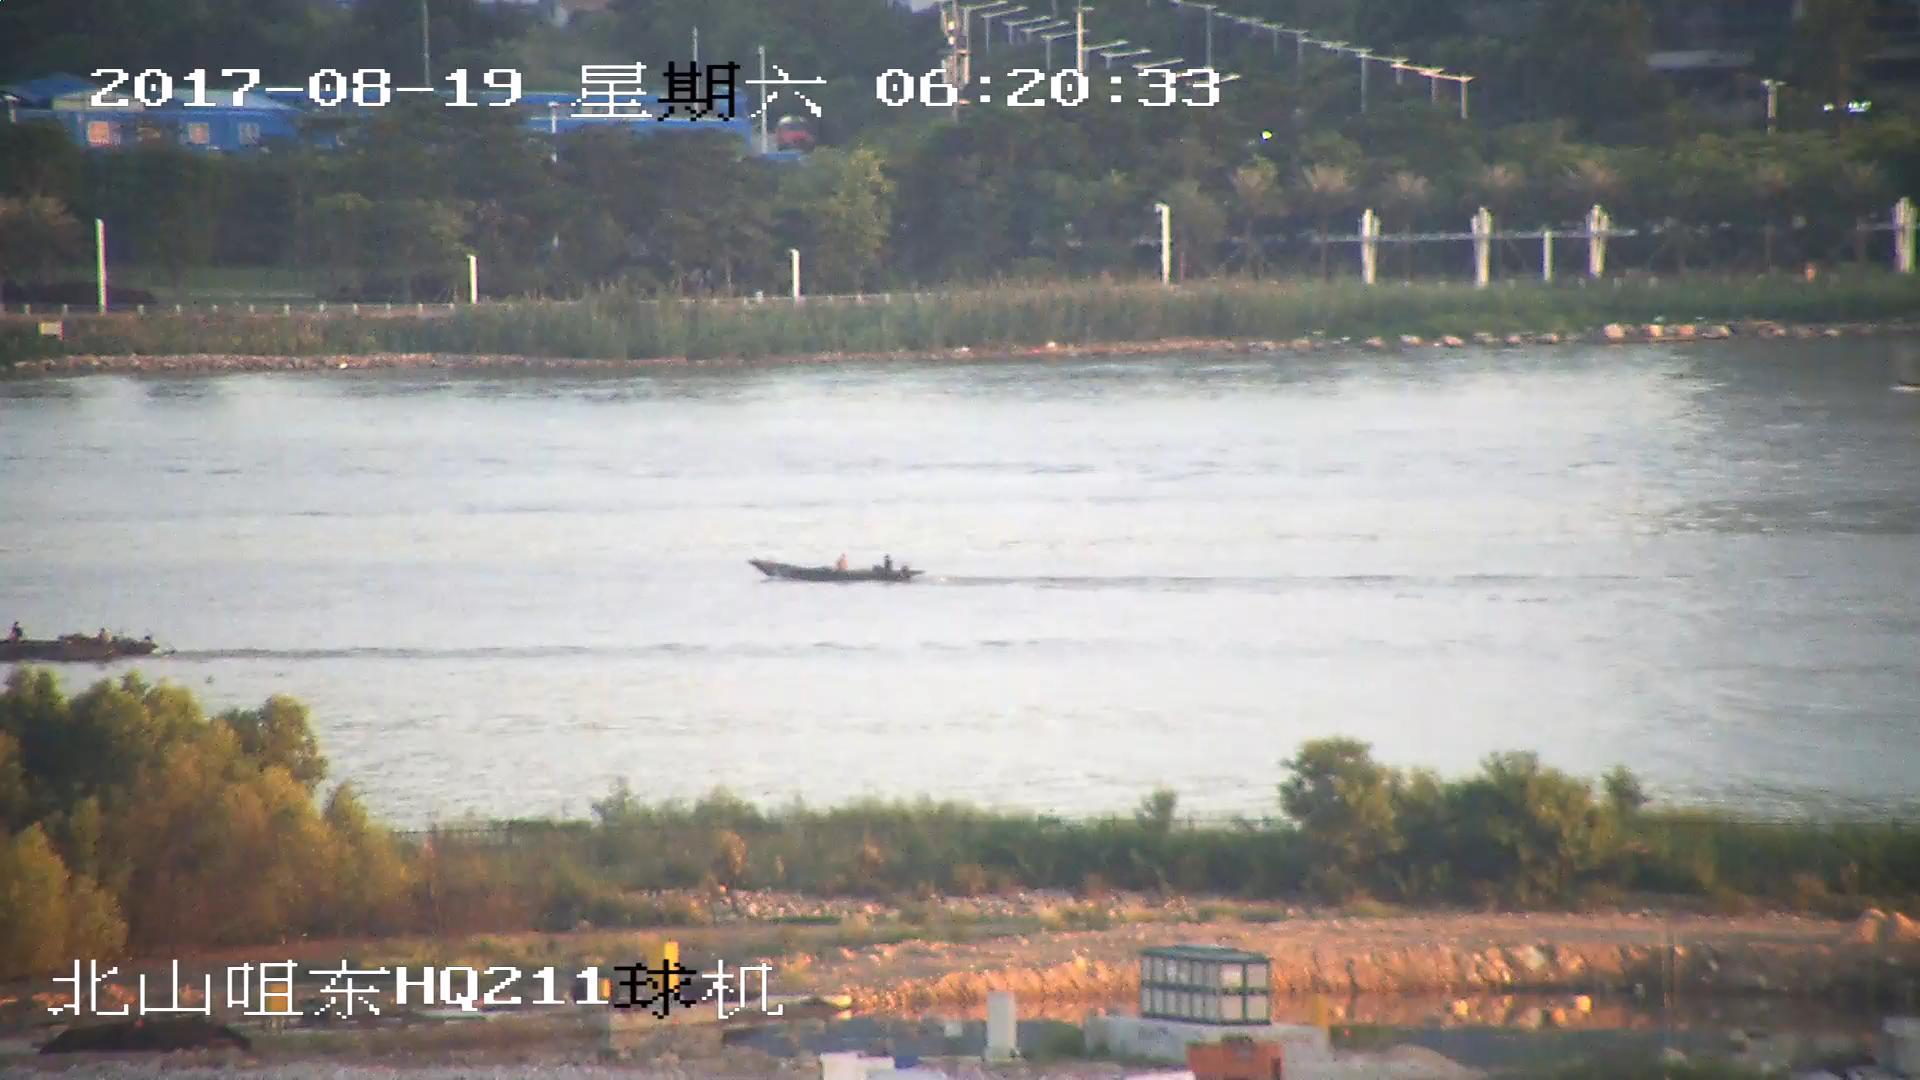fishing boat: (1, 622, 158, 665), (754, 556, 925, 586)
